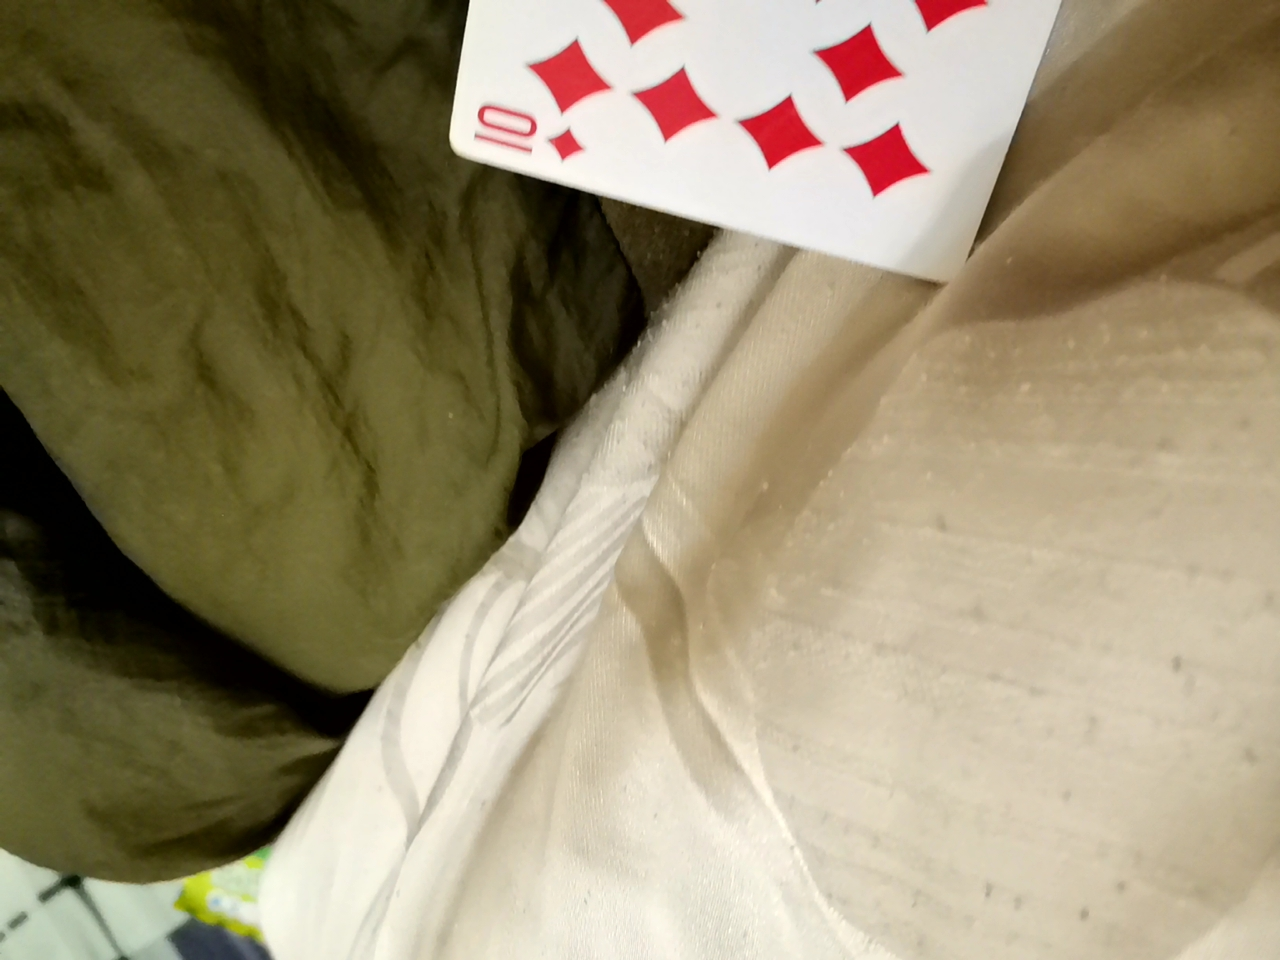fk 10: (404, 0, 1121, 287)
